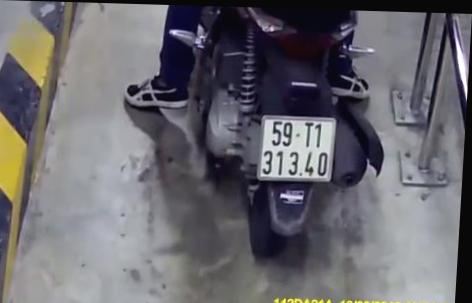License_Plate: (242, 106, 345, 188)
